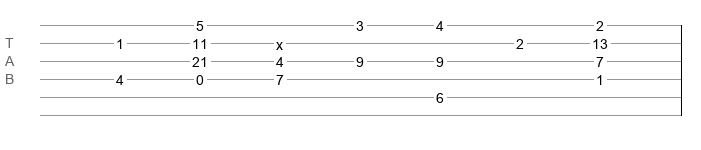0: (196, 72, 204, 82)
1: (116, 36, 124, 46), (596, 72, 604, 82)
11: (192, 36, 208, 46)
13: (592, 36, 608, 46)
2: (516, 36, 524, 46), (596, 18, 604, 28)
21: (192, 54, 208, 64)
3: (356, 18, 364, 28)
4: (116, 72, 124, 82), (276, 54, 284, 64), (436, 18, 444, 28)
5: (196, 18, 204, 28)
6: (436, 90, 444, 100)
7: (276, 72, 284, 82), (596, 54, 604, 64)
9: (356, 54, 364, 64), (436, 54, 444, 64)
x: (276, 37, 283, 45)
